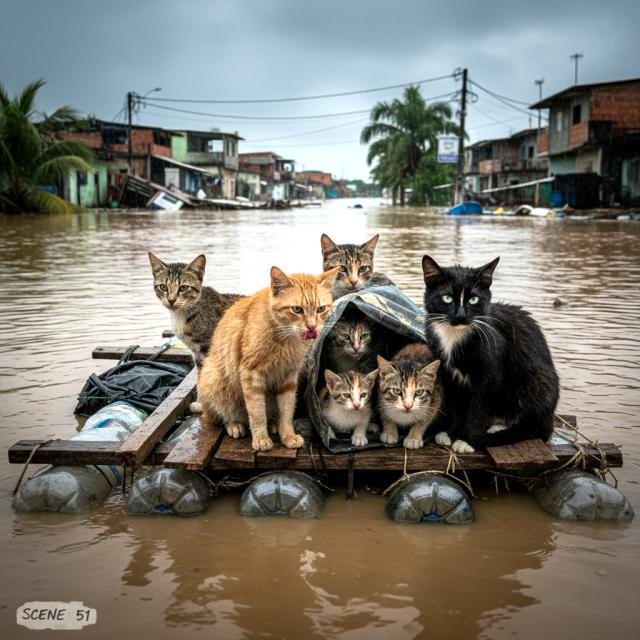cat: (190, 250, 340, 462), (417, 253, 571, 451), (142, 238, 262, 412), (365, 335, 446, 459), (317, 355, 387, 458), (314, 235, 398, 302), (321, 311, 386, 376)
